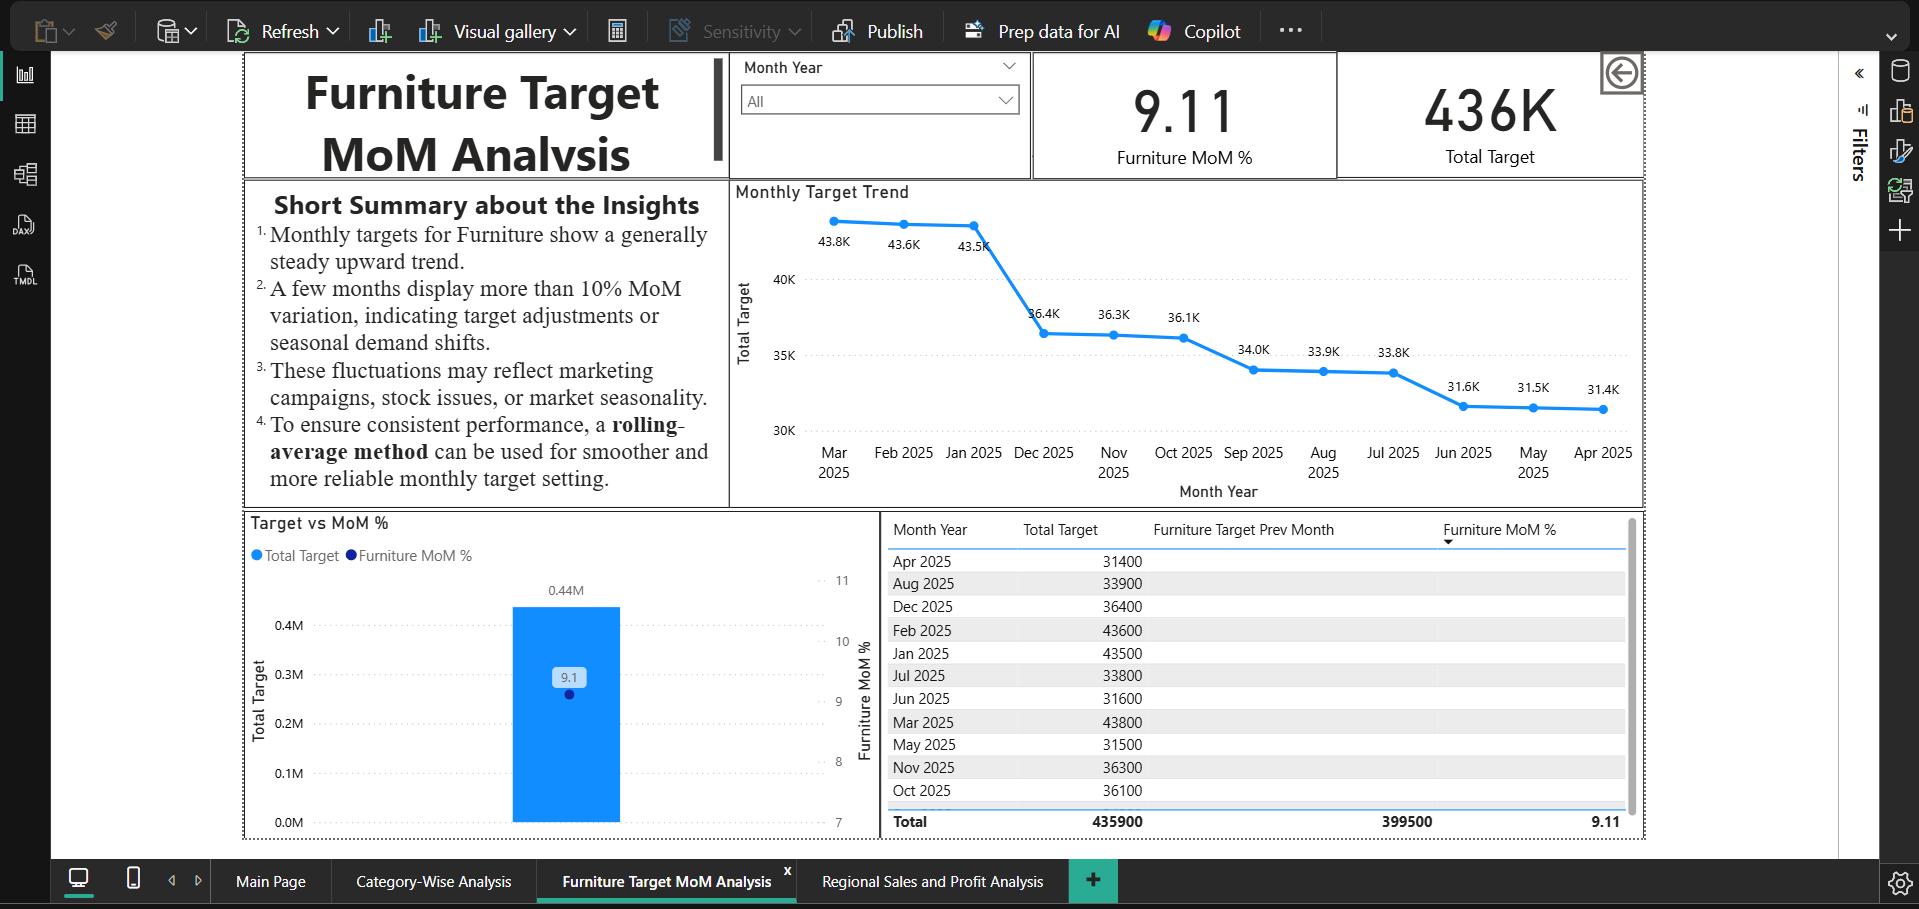

Layout of this report page (visuals, bound fields, positions):
{"tool":"powerbi","page":{"name":"Furniture Target MoM Analysis ","canvas":[1280,720],"ordinal":2},"visuals":[{"type":"card","fields":{"Values":["Sales target (1).Total Target"]},"box":[998.6,0,281.8,115.9],"z":0},{"type":"card","fields":{"Values":["Sales target (1).Furniture MoM %"]},"box":[720.6,1.2,278,115.9],"z":1000},{"type":"lineChart","title":" Monthly Target Trend ","fields":{"Category":["Sales target (1).Month Year"],"Y":["Sales target (1).Total Target"]},"box":[443.6,117.8,836.4,299.6],"z":2000},{"type":"lineClusteredColumnComboChart","title":"Target vs MoM % ","fields":{"Y":["Sales target (1).Total Target"],"Y2":["Sales target (1).Furniture MoM %"]},"box":[0,420.4,581.8,299.6],"z":3000},{"type":"tableEx","fields":{"Values":["Sales target (1).Month Year","Sales target (1).Total Target","Sales target (1).Furniture Target Prev Month","Sales target (1).Furniture MoM %"]},"box":[581.8,420.4,698.2,299.6],"z":4000},{"type":"textbox","box":[0,1.5,443.6,114.9],"z":5000},{"type":"slicer","fields":{"Values":["Sales target (1).Month Year"]},"box":[443.6,1.5,276.4,116.4],"z":6000},{"type":"textbox","box":[0,118,444,300],"z":7000},{"type":"actionButton","box":[1240.5,0,39.9,39.9],"z":7002}]}

Visuals, with their boxes on the page's 1280x720 design canvas (x1, y1, x2, y2). These are canvas units, not pixel positions in the 1919x909 screenshot, which may show the page scaled, cropped or inside an application window:
card - Sales target (1).Total Target: [999, 0, 1280, 116]
card - Sales target (1).Furniture MoM %: [721, 1, 999, 117]
" Monthly Target Trend " lineChart: [444, 118, 1280, 417]
"Target vs MoM % " lineClusteredColumnComboChart: [0, 420, 582, 720]
tableEx - Sales target (1).Month Year x Sales target (1).Total Target: [582, 420, 1280, 720]
textbox: [0, 2, 444, 116]
slicer - Sales target (1).Month Year: [444, 2, 720, 118]
textbox: [0, 118, 444, 418]
actionButton: [1240, 0, 1280, 40]
